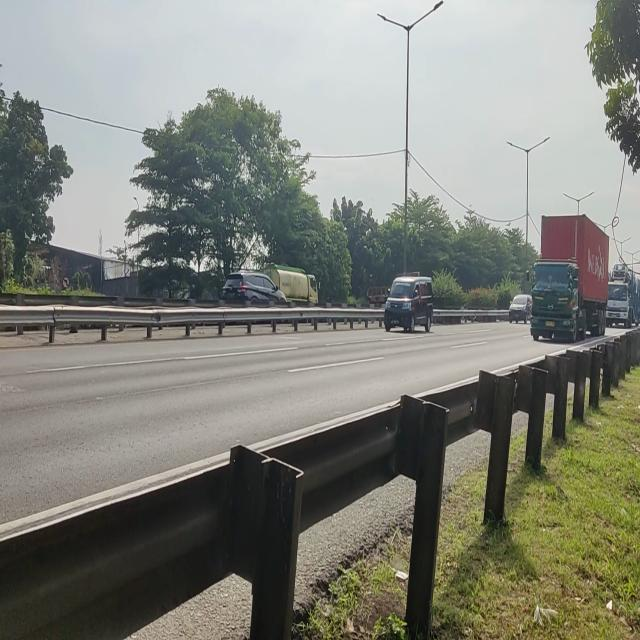Golongan I: (384, 264, 435, 338)
